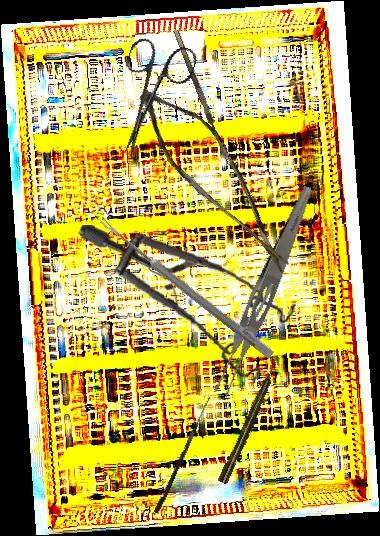Dressing Forceps: (209, 181, 318, 400)
Handpiece: (216, 364, 280, 485)
Hook Surgical: (173, 26, 238, 168), (153, 394, 211, 515)
Iris Scissors: (97, 31, 200, 167)
Micro Scissor: (111, 79, 329, 276)
Speculum: (67, 224, 303, 386)
Surgical Spoon: (96, 216, 276, 359)
